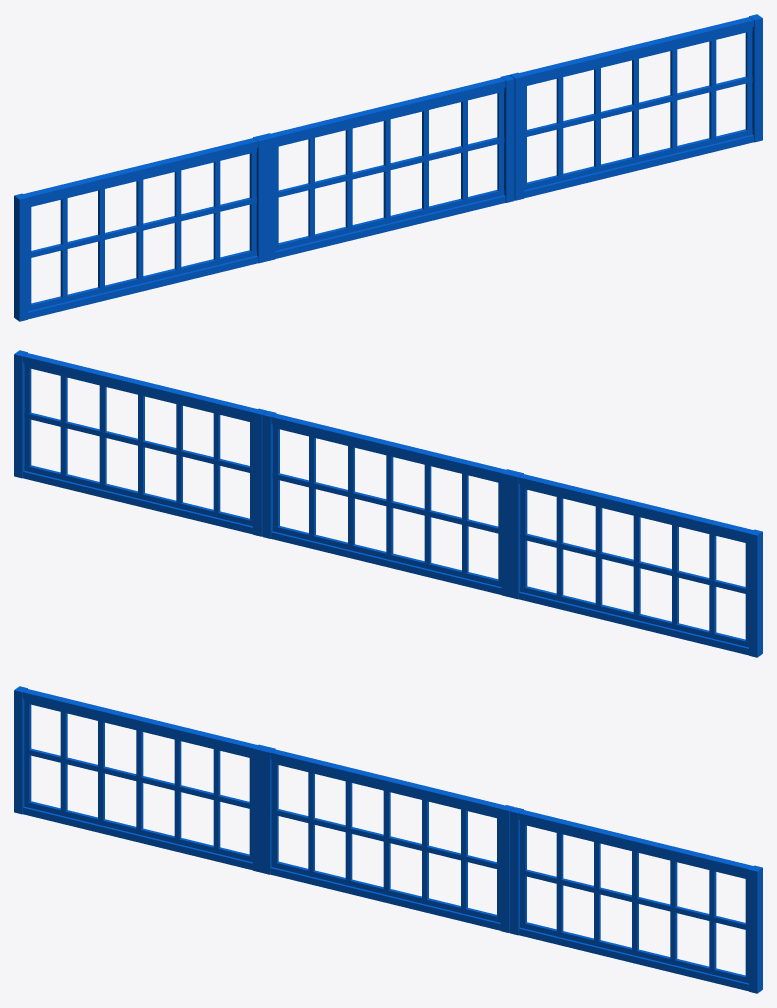
The model's file is Warehouse_03_Window_01.fbx.
3 views of the same model, one above another, from view 1: azimuth 30°, elevation 25°; view 2: azimuth 150°, elevation 25°; view 3: azimuth 330°, elevation 25° (orthographic).
Parts seen in each view (by area): view 1: Warehouse_03_Window_01; view 2: Warehouse_03_Window_01; view 3: Warehouse_03_Window_01.
Boxes of the visible parts, x1,y1,x2,y2 form: Warehouse_03_Window_01: (14, 14, 762, 321); Warehouse_03_Window_01: (14, 350, 762, 657); Warehouse_03_Window_01: (14, 686, 762, 993).
Size of the model in its own units: 1095 by 172 by 14.37.
